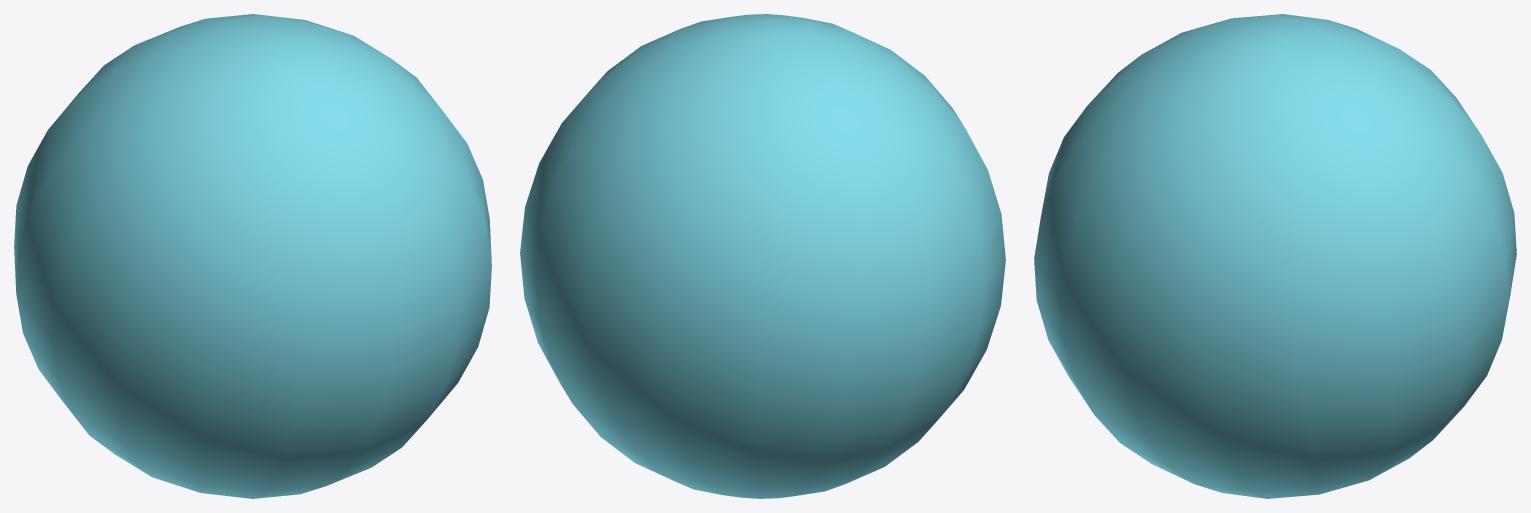
The picture shows the model from 3 angles, left to right: view 1: azimuth 30°, elevation 25°; view 2: azimuth 150°, elevation 25°; view 3: azimuth 270°, elevation 25°; orthographic projection.
Visible parts, largest first — view 1: orb2.007; view 2: orb2.007; view 3: orb2.007.
Part boxes in pixels (box(x1,y1,x2,y2)): orb2.007: box(14, 14, 491, 498); orb2.007: box(520, 14, 1005, 498); orb2.007: box(1034, 14, 1516, 498).
Bounding box in the file's own units: 0.3971 × 0.3999 × 0.3976.
